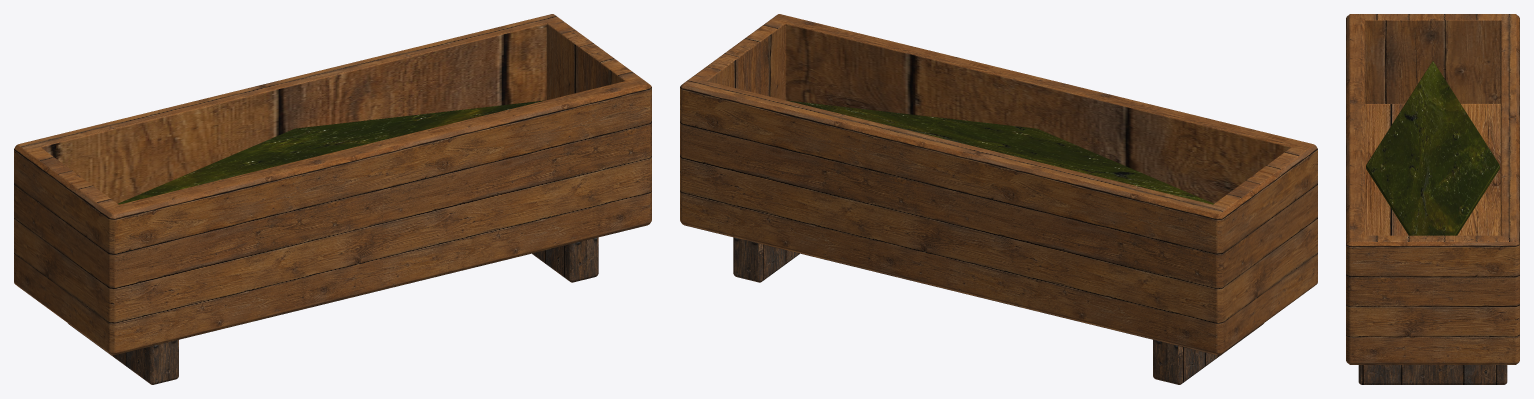
Rendered from animal-trough-v01.glb.
3 renders of one model, left to right at view 1: azimuth 30°, elevation 25°; view 2: azimuth 150°, elevation 25°; view 3: azimuth 270°, elevation 25°, orthographic. The views are drawn at different scales.
Visible parts, largest first — view 1: animal-trough; view 2: animal-trough; view 3: animal-trough.
Boxes of the visible parts, <box> form: animal-trough: <box>14,14,651,384</box>; animal-trough: <box>680,14,1317,384</box>; animal-trough: <box>1346,14,1519,384</box>.
Size of the model in its own units: 2.2 by 0.725 by 0.7.
Materials: 3 (3 with a texture image).
